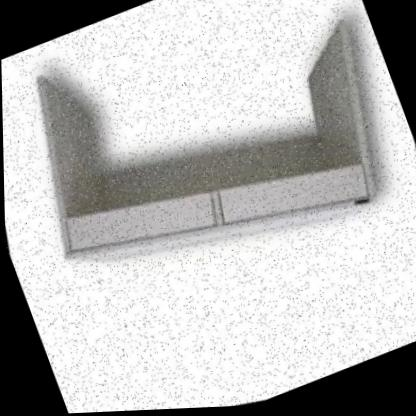Table: (0, 0, 416, 346)
